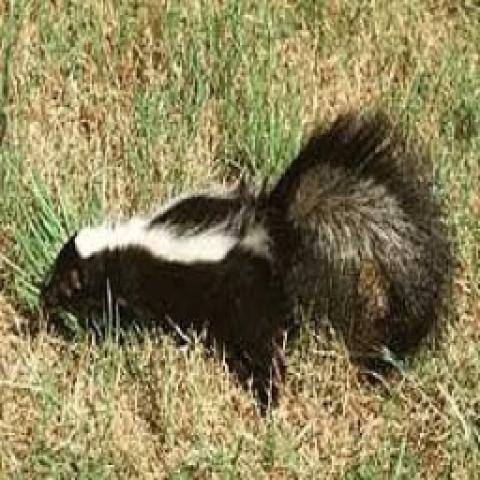small_animal: (36, 105, 458, 407)
